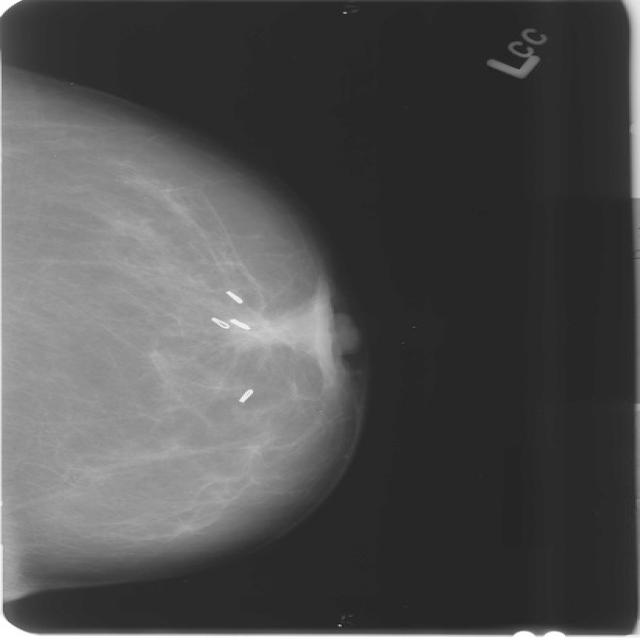tumour: (236, 309, 295, 349)
